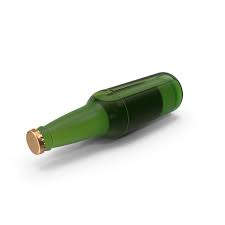beer: (25, 72, 183, 155)
